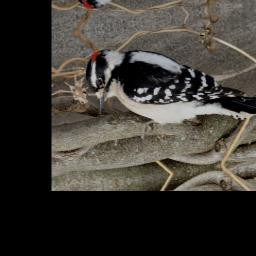Woodpecker: (81, 24, 256, 147)
